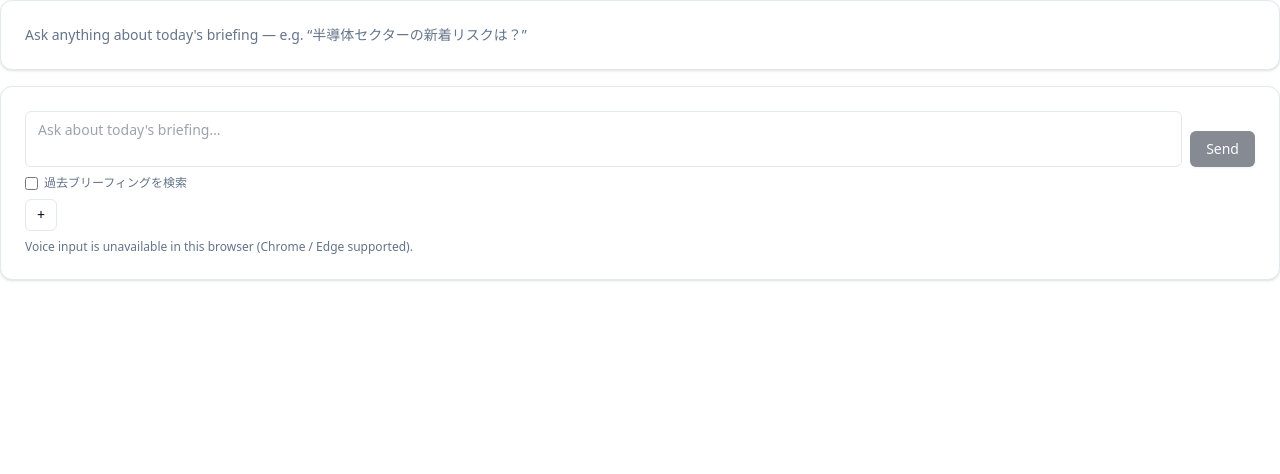
Test case: ChatForm › strips dangerous raw HTML from assistant markdown (rehype-sanitize)
Type "q" into the text box with test id "chat-input" at {"x": 604, "y": 139}, box [25, 111, 1182, 167]
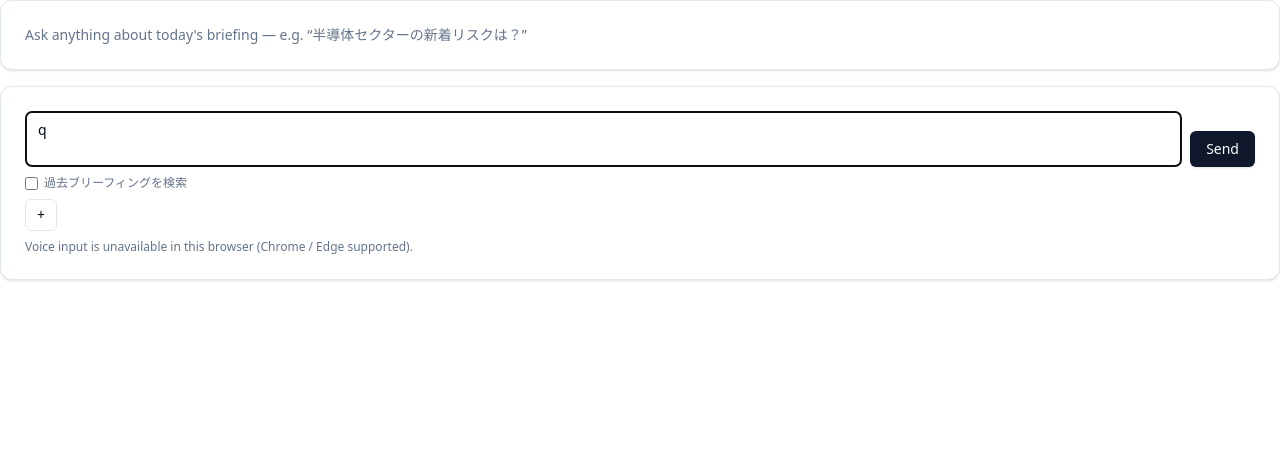
Click the button with test id "send-button" at {"x": 1223, "y": 149}, box [1190, 131, 1255, 167]
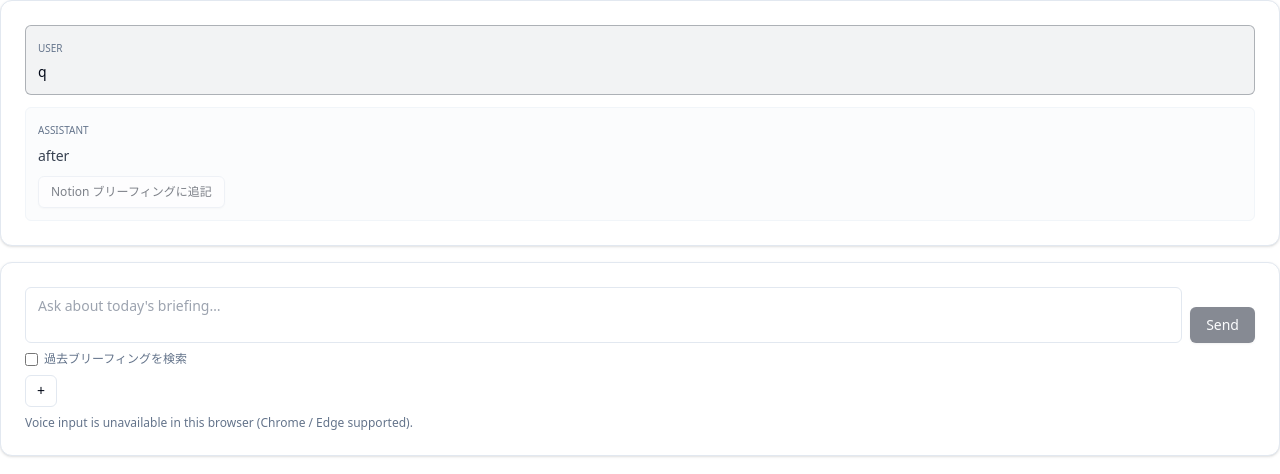
Result: the element with test id "chat-msg-assistant" shows "after" at [38, 146, 69, 165]
